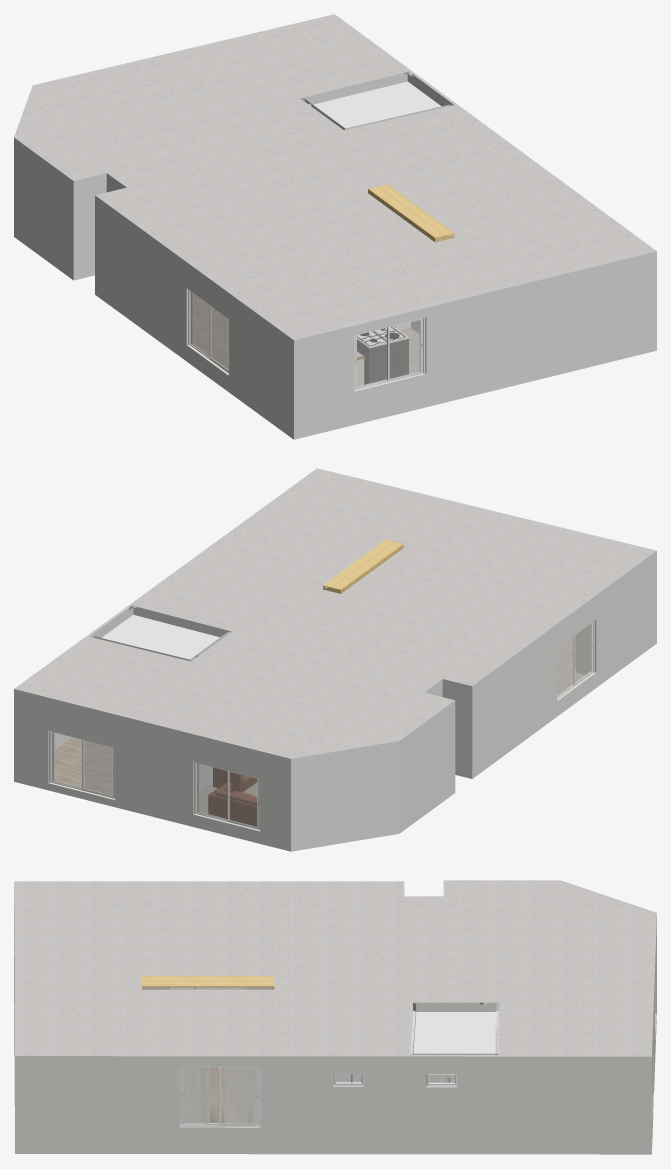
File: casa_modificada.glb
3 views of the same model, one above another, from view 1: azimuth 30°, elevation 25°; view 2: azimuth 150°, elevation 25°; view 3: azimuth 270°, elevation 25° (orthographic). The views are drawn at different scales.
Parts seen in each view (by area): view 1: exportobjcleanermaterialmergergles; view 2: exportobjcleanermaterialmergergles; view 3: exportobjcleanermaterialmergergles.
Boxes of the visible parts, left/top/right/bottom form: exportobjcleanermaterialmergergles: left=14, top=14, right=656, bottom=439; exportobjcleanermaterialmergergles: left=14, top=468, right=656, bottom=851; exportobjcleanermaterialmergergles: left=14, top=880, right=656, bottom=1154.
Size of the model in its own units: 12.36 by 3.35 by 19.05.
67 materials, 28 textured.
